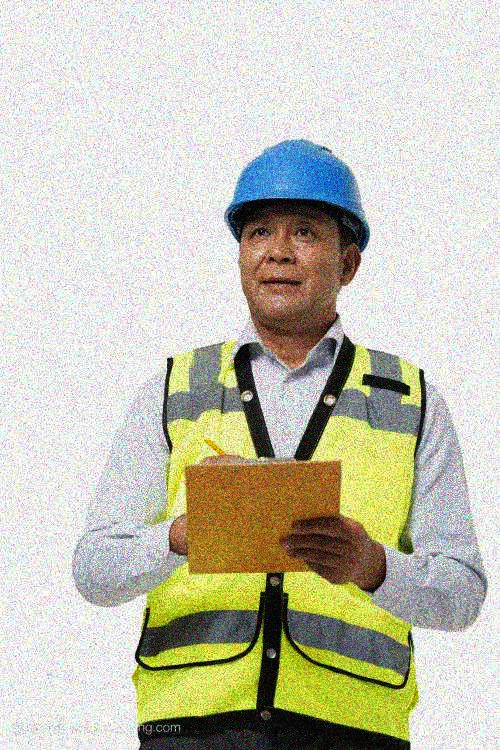helmet: (225, 140, 375, 329)
